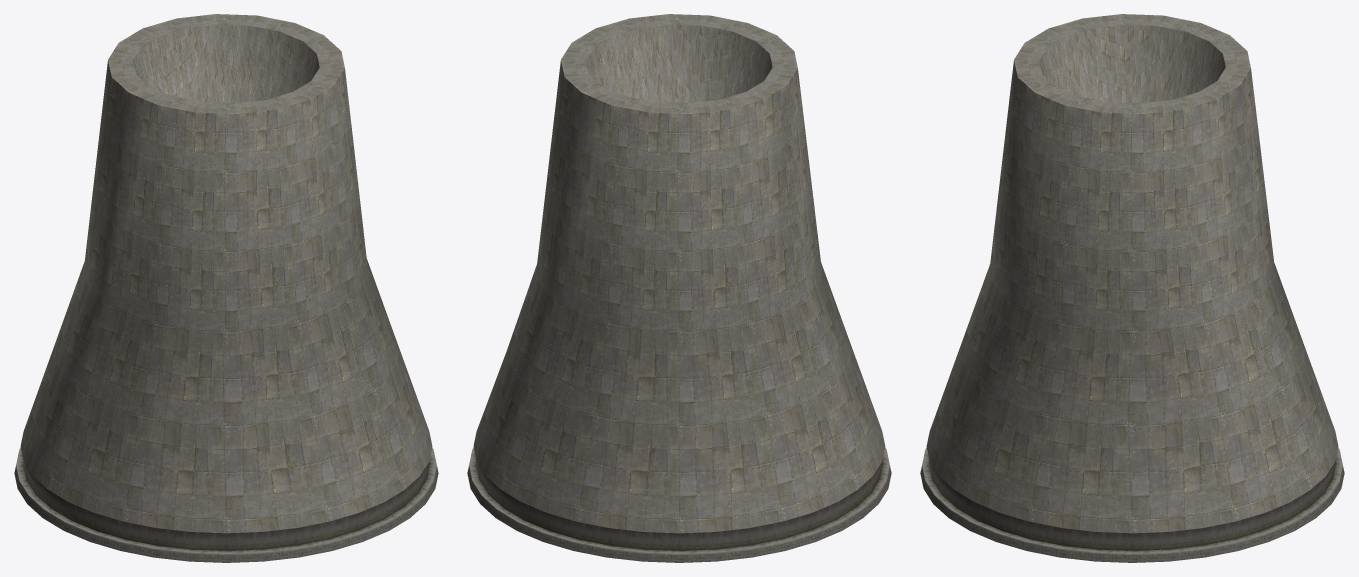
File: Building_FdcYc1_lod1.glb
3 renders of one model, left to right at view 1: azimuth 30°, elevation 25°; view 2: azimuth 150°, elevation 25°; view 3: azimuth 270°, elevation 25°, orthographic.
Visible parts, largest first — view 1: xiutz_fdc_yc1_lod1_0; view 2: xiutz_fdc_yc1_lod1_0; view 3: xiutz_fdc_yc1_lod1_0.
Part boxes in pixels (left/top/right/bottom): xiutz_fdc_yc1_lod1_0: left=14, top=14, right=438, bottom=562; xiutz_fdc_yc1_lod1_0: left=467, top=14, right=891, bottom=562; xiutz_fdc_yc1_lod1_0: left=920, top=14, right=1344, bottom=562.
Size of the model in its own units: 46.3 by 49.29 by 46.3.
2 materials, 2 textured.
